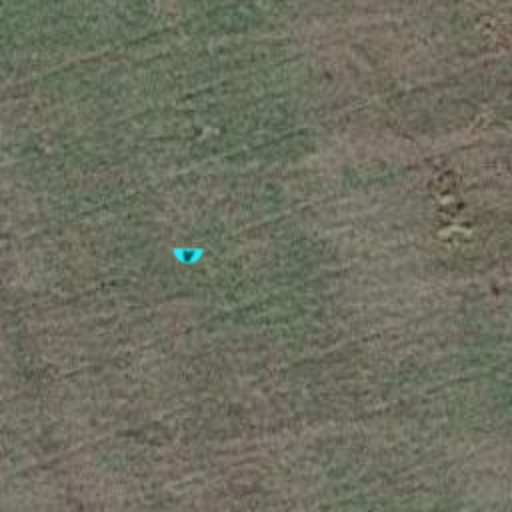semicircle: (172, 240, 204, 272)
